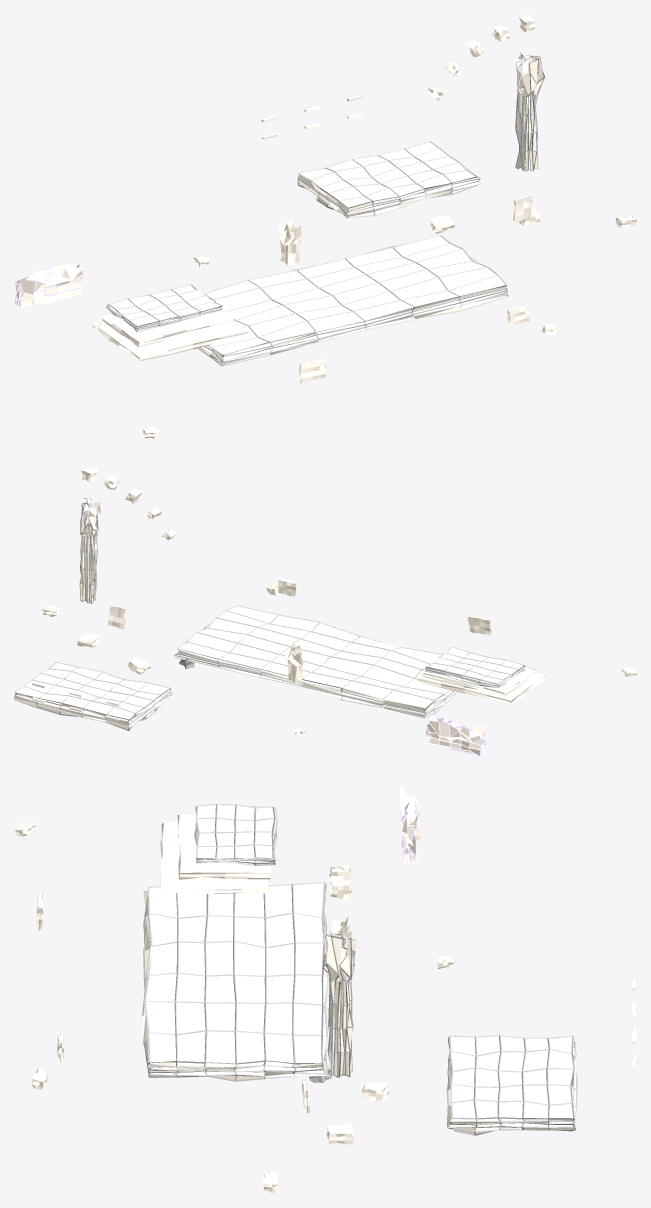
Rendered from thearchive.glb.
3 renders of one model, top to bottom at view 1: azimuth 30°, elevation 25°; view 2: azimuth 150°, elevation 25°; view 3: azimuth 270°, elevation 25°, orthographic. The views are drawn at different scales.
Visible parts, largest first — view 1: BaseMain, BaseWing, Accent_BaseMain.001, Accent_BaseWing.001, Step_2, Step_0, Step_1, ArchPillar, LecternWall, AccentArchPillar.001, AccentTopStep.001, AccentLectern (+1 smaller); view 2: BaseMain, BaseWing, Accent_BaseMain.001, Accent_BaseWing.001, Step_2, ArchPillar, LecternWall, AccentArchPillar.001, AccentTopStep.001, Step_0, Step_1, AccentLectern (+1 smaller); view 3: BaseMain, BaseWing, Accent_BaseMain.001, Step_2, Accent_BaseWing.001, ArchPillar, Step_0, Step_1, AccentArchPillar.001, AccentTopStep.001, LecternWall, AccentLectern.
Part boxes in pixels (bbox=[...]): BaseMain: bbox=[199, 236, 506, 365]; BaseWing: bbox=[298, 142, 479, 216]; Accent_BaseMain.001: bbox=[198, 235, 508, 366]; Accent_BaseWing.001: bbox=[297, 141, 481, 218]; Step_2: bbox=[107, 285, 220, 330]; Step_0: bbox=[98, 322, 248, 360]; Step_1: bbox=[102, 309, 234, 347]; ArchPillar: bbox=[516, 55, 543, 170]; LecternWall: bbox=[15, 264, 82, 306]; AccentArchPillar.001: bbox=[515, 52, 544, 171]; AccentTopStep.001: bbox=[105, 284, 222, 332]; AccentLectern: bbox=[14, 263, 83, 308]; BaseMain: bbox=[175, 606, 458, 716]; BaseWing: bbox=[15, 663, 171, 729]; Accent_BaseMain.001: bbox=[174, 605, 457, 718]; Accent_BaseWing.001: bbox=[14, 662, 172, 730]; Step_2: bbox=[426, 647, 524, 687]; ArchPillar: bbox=[80, 498, 100, 602]; LecternWall: bbox=[426, 715, 486, 755]; AccentArchPillar.001: bbox=[79, 497, 100, 603]; AccentTopStep.001: bbox=[425, 646, 525, 687]; Step_0: bbox=[417, 673, 546, 704]; Step_1: bbox=[421, 667, 536, 696]; AccentLectern: bbox=[425, 715, 487, 756]; BaseMain: bbox=[142, 883, 327, 1080]; BaseWing: bbox=[447, 1036, 576, 1133]; Accent_BaseMain.001: bbox=[142, 882, 328, 1081]; Step_2: bbox=[195, 805, 276, 864]; Accent_BaseWing.001: bbox=[446, 1035, 577, 1135]; ArchPillar: bbox=[324, 926, 356, 1075]; Step_0: bbox=[159, 821, 268, 893]; Step_1: bbox=[177, 814, 271, 879]; AccentArchPillar.001: bbox=[322, 925, 356, 1077]; AccentTopStep.001: bbox=[194, 804, 277, 865]; LecternWall: bbox=[400, 788, 421, 863]; AccentLectern: bbox=[399, 786, 422, 864].
Size of the model in its own units: 12.36 by 4.19 by 8.91.
